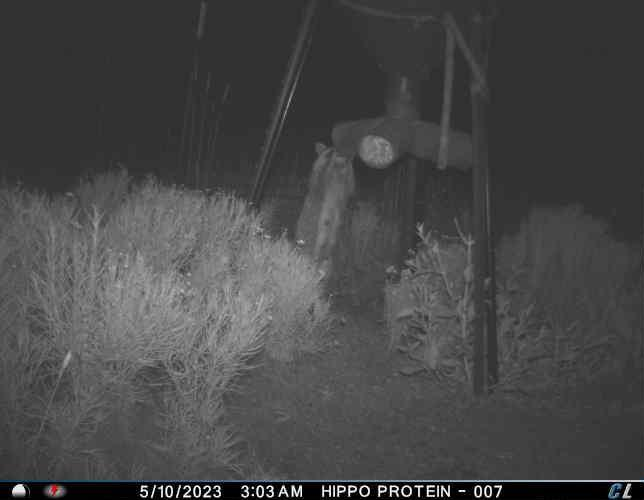Raccoon: (292, 138, 359, 296)
